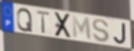J: (113, 22, 128, 45)
M: (71, 15, 93, 42)
Q: (16, 8, 34, 33)
S: (91, 18, 110, 43)
T: (35, 10, 51, 35)
X: (54, 12, 73, 40)
